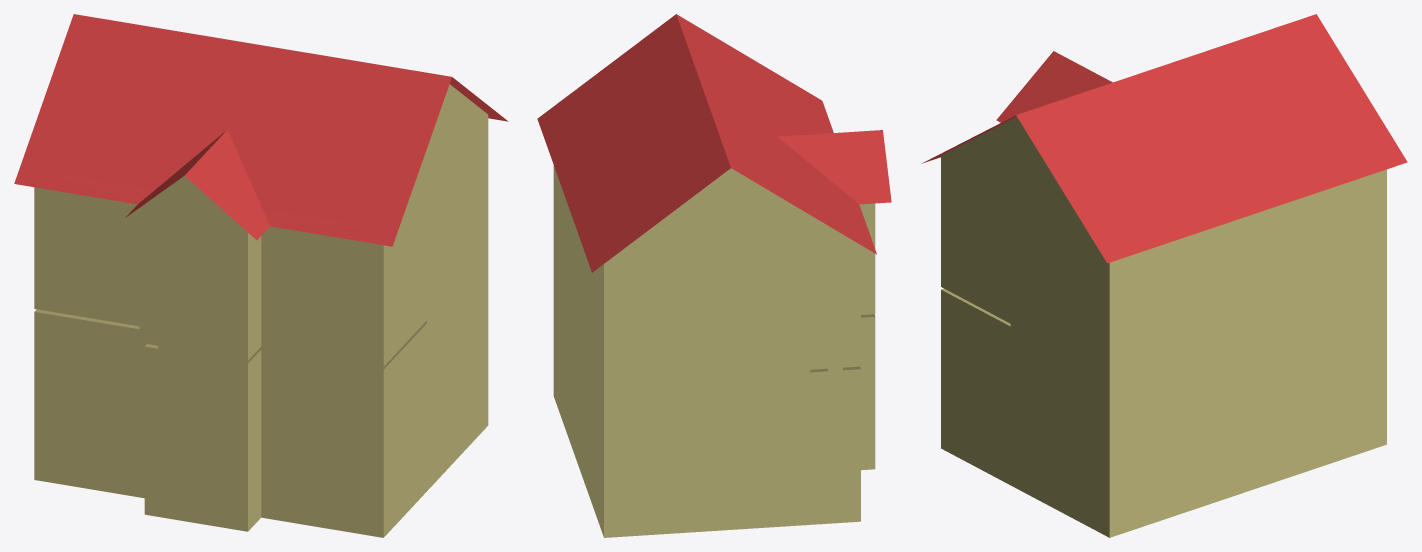
The picture shows the model from 3 angles, left to right: view 1: azimuth 30°, elevation 25°; view 2: azimuth 150°, elevation 25°; view 3: azimuth 270°, elevation 25°; orthographic projection. The views are drawn at different scales.
Bounding box in the file's own units: 15.98 × 16.42 × 14.24.
